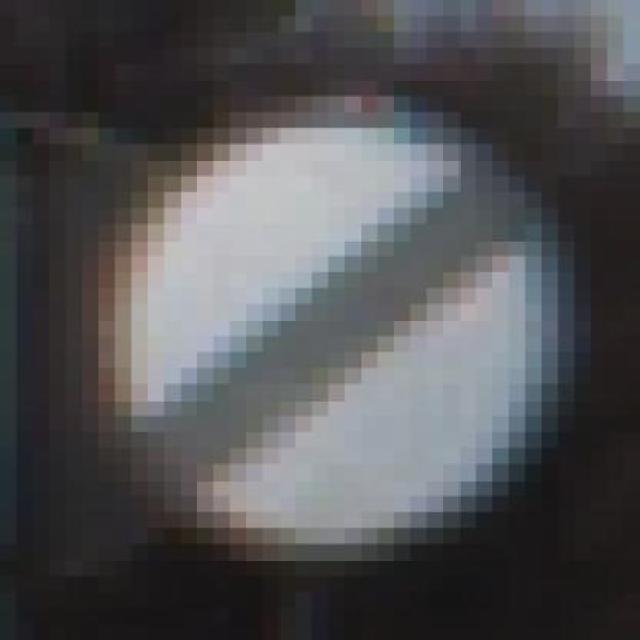End of all speed and passing limits: (82, 79, 575, 576)
